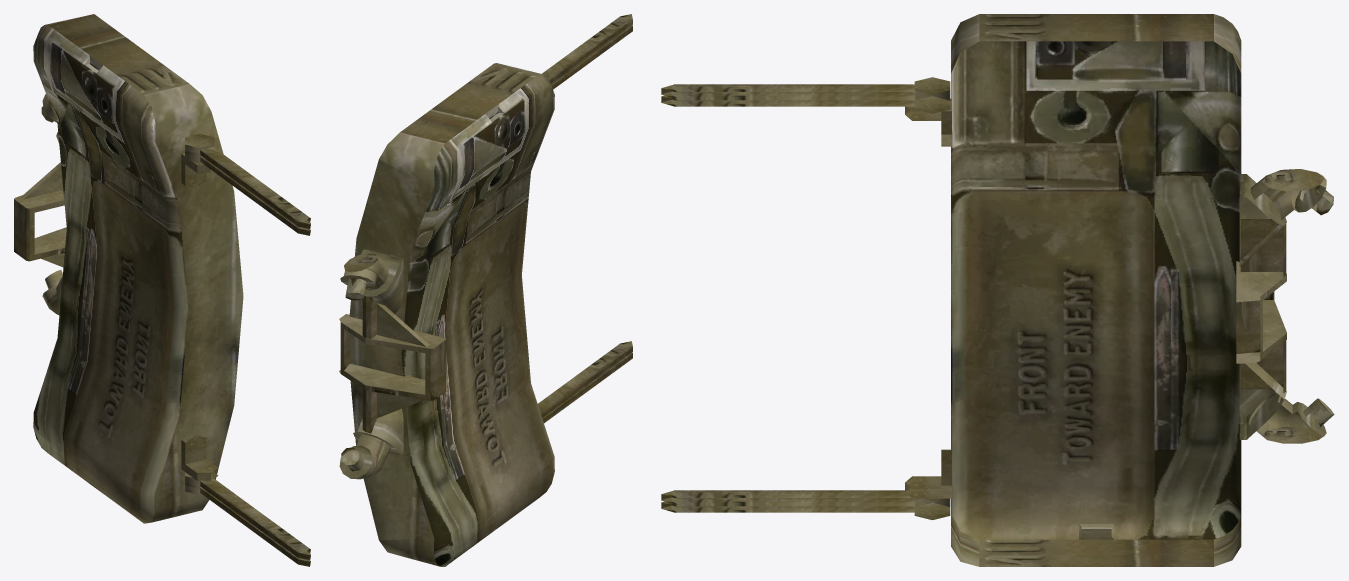
Rendered from viewmodel_claymore.glb.
3 views of the same model, side by side, from view 1: azimuth 30°, elevation 25°; view 2: azimuth 150°, elevation 25°; view 3: azimuth 270°, elevation 25° (orthographic). The views are drawn at different scales.
Visible parts, largest first — view 1: viewmodel_claymore; view 2: viewmodel_claymore; view 3: viewmodel_claymore.
Boxes of the visible parts, x1,y1,x2,y2 form: viewmodel_claymore: [14, 14, 310, 566]; viewmodel_claymore: [339, 14, 632, 566]; viewmodel_claymore: [661, 14, 1334, 566].
Bounding box in the file's own units: 0.0702 × 0.2805 × 0.3256.
Materials: 1 (1 with a texture image).
